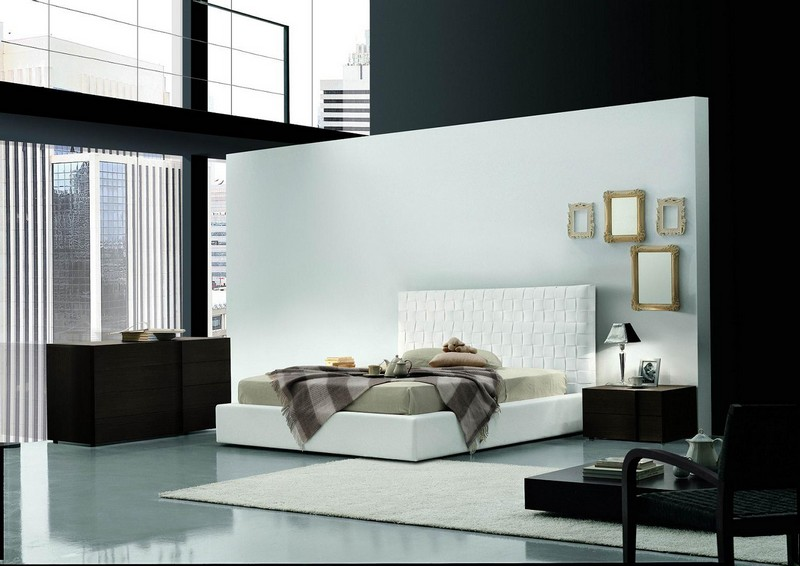bed: (230, 287, 593, 458)
chair: (621, 407, 797, 561)
lamp: (604, 319, 640, 390)
stool: (43, 331, 231, 441), (588, 374, 696, 438)
